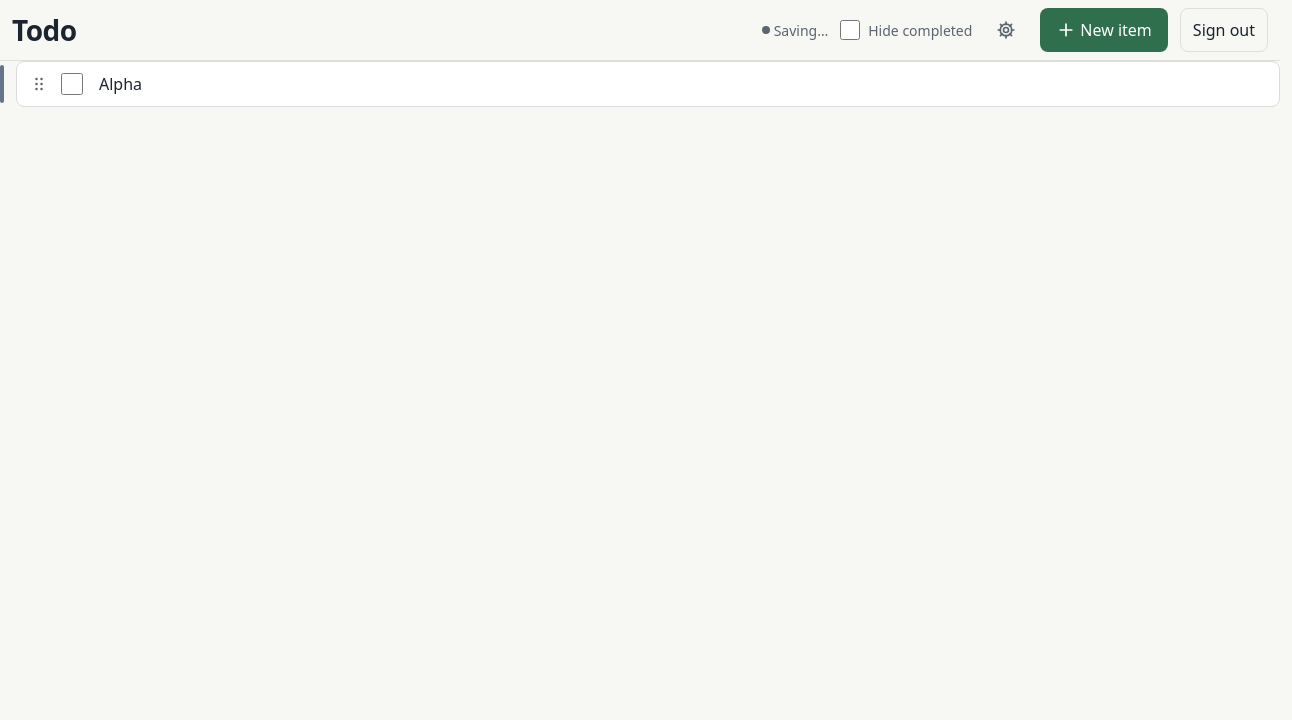
it: editor flow › opening Edit while New item is open closes New item and opens Edit
The width and height of the screenshot is (1292, 720).
What coordinates should you click on to do the following:
click the button "New item"
I would click on:
 (1104, 30)
Its box is 1040,8 -> 1168,52.
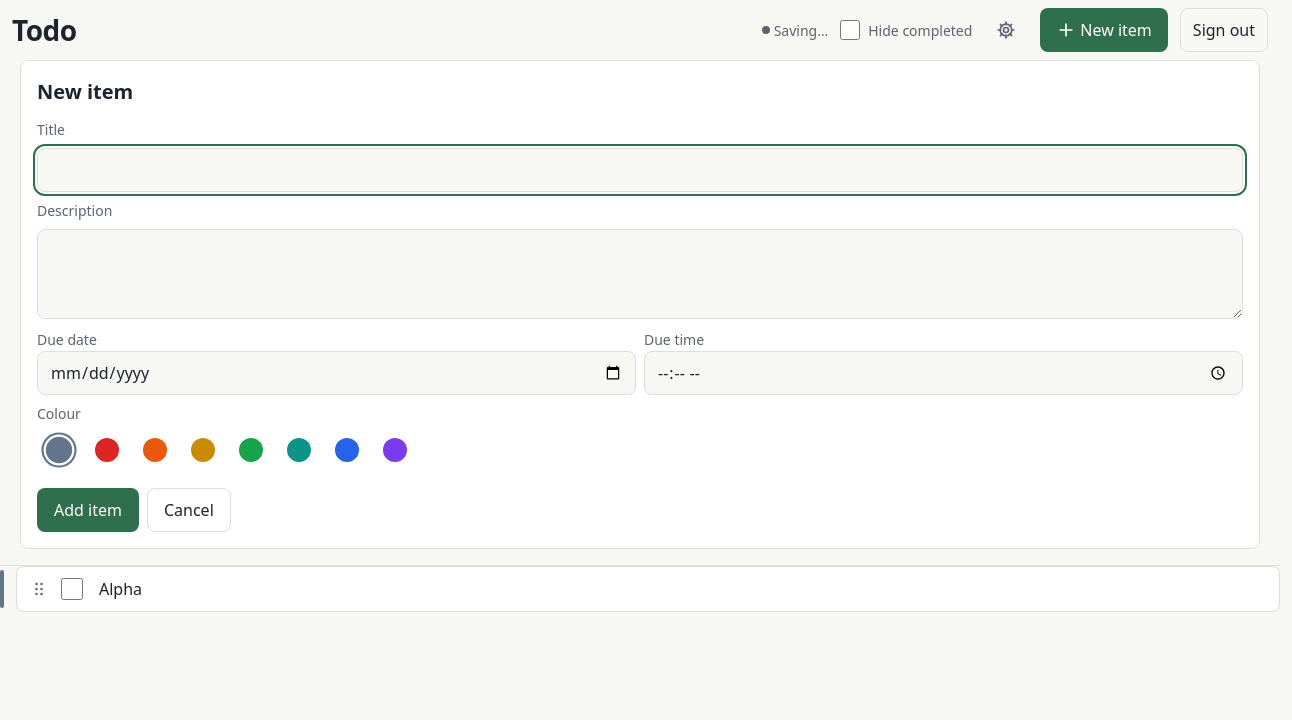
Expected: the form "New item" is shown
What coordinates should you click on to do the following:
click the button "Alpha"
I would click on:
 (121, 589)
Its box is 91,567 -> 1279,611.
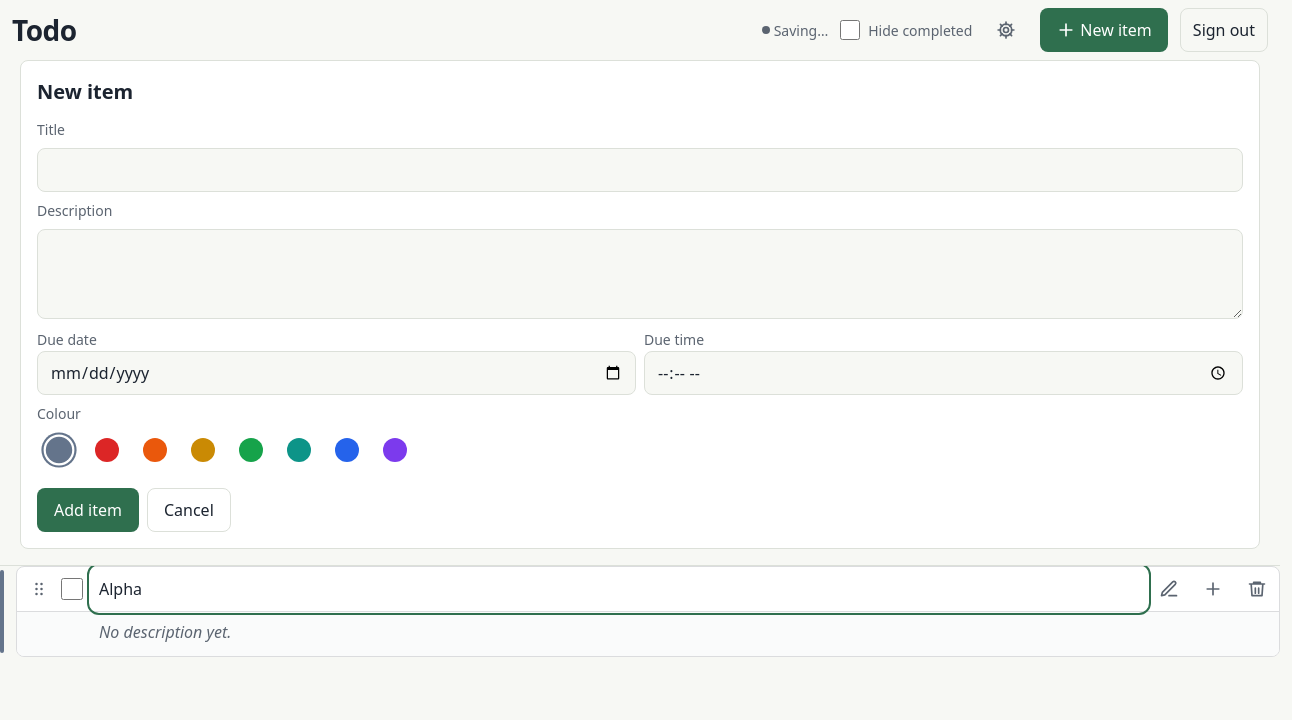
What coordinates should you click on to do the following:
click the button named "Edit Alpha"
I would click on:
 (1169, 589)
Its box is 1147,567 -> 1191,611.
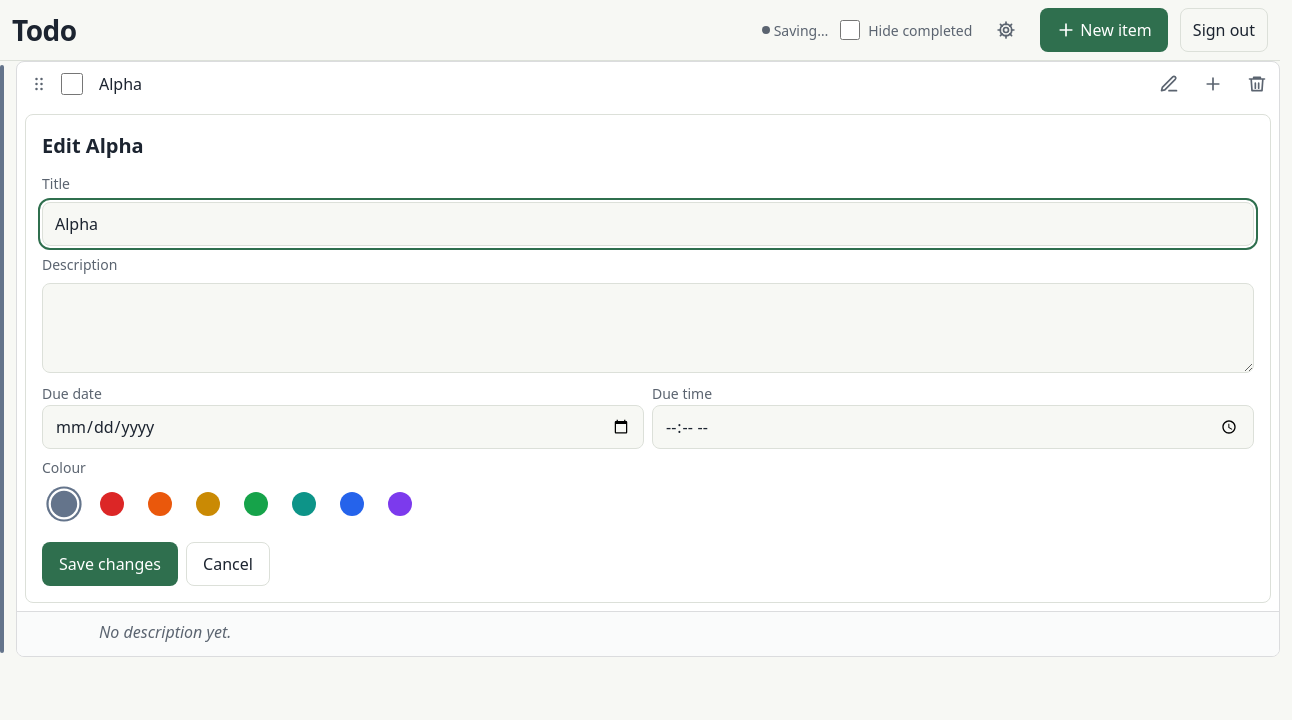
Expected: the form "Edit Alpha" is shown
